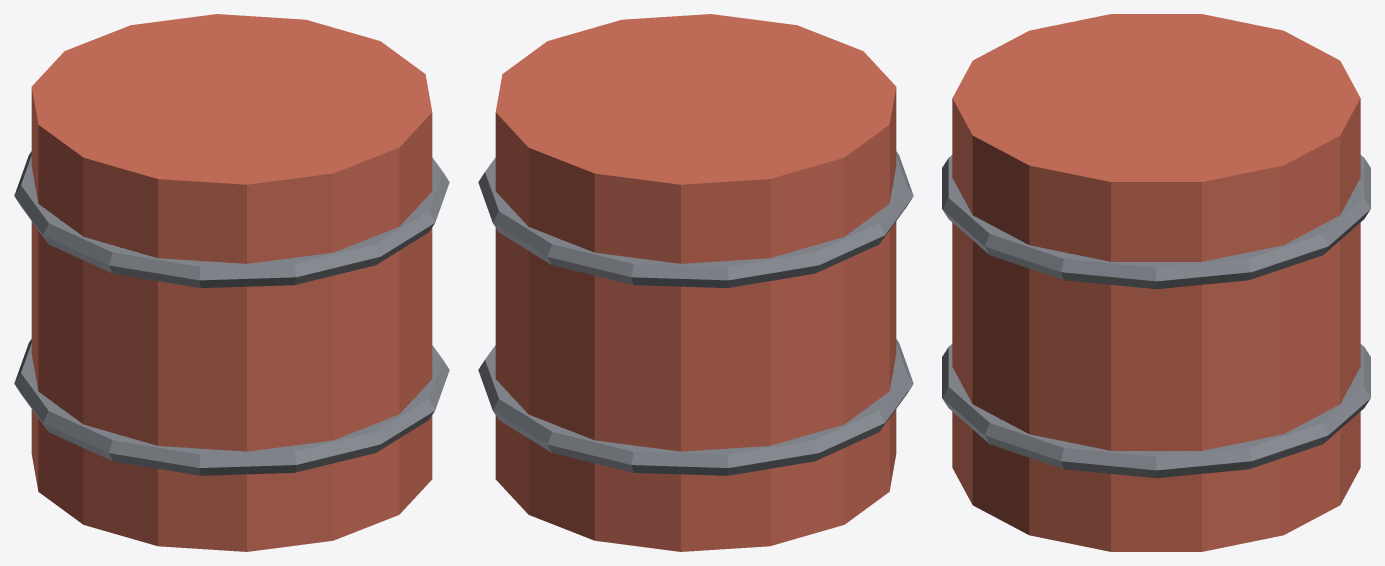
The model's file is barrel.glb.
3 renders of one model, left to right at view 1: azimuth 30°, elevation 25°; view 2: azimuth 150°, elevation 25°; view 3: azimuth 270°, elevation 25°, orthographic.
Parts seen in each view (by area): view 1: Cylinder; view 2: Cylinder; view 3: Cylinder.
Boxes of the visible parts, x1,y1,x2,y2 form: Cylinder: (14, 14, 449, 551); Cylinder: (478, 14, 913, 551); Cylinder: (942, 14, 1370, 551).
Size of the model in its own units: 0.97 by 0.9 by 0.9457.
